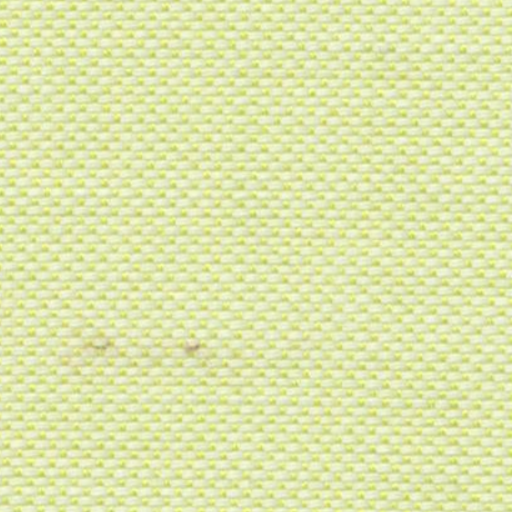WuZi: (66, 312, 214, 375)
